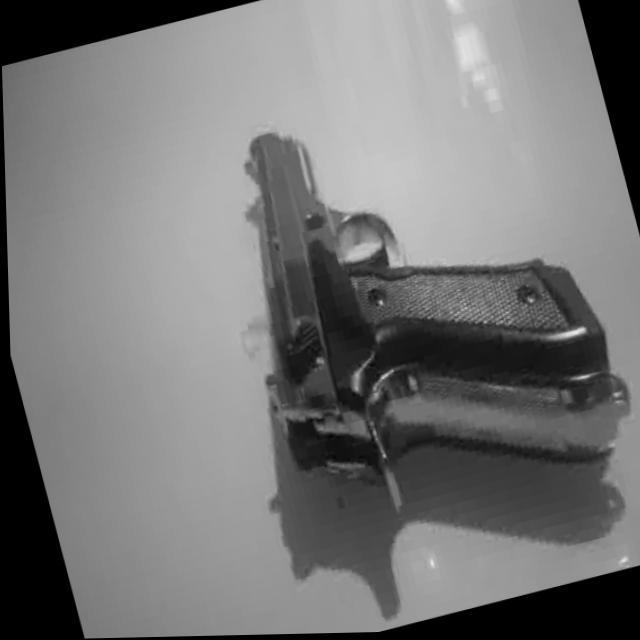weapon: (193, 60, 640, 539)
